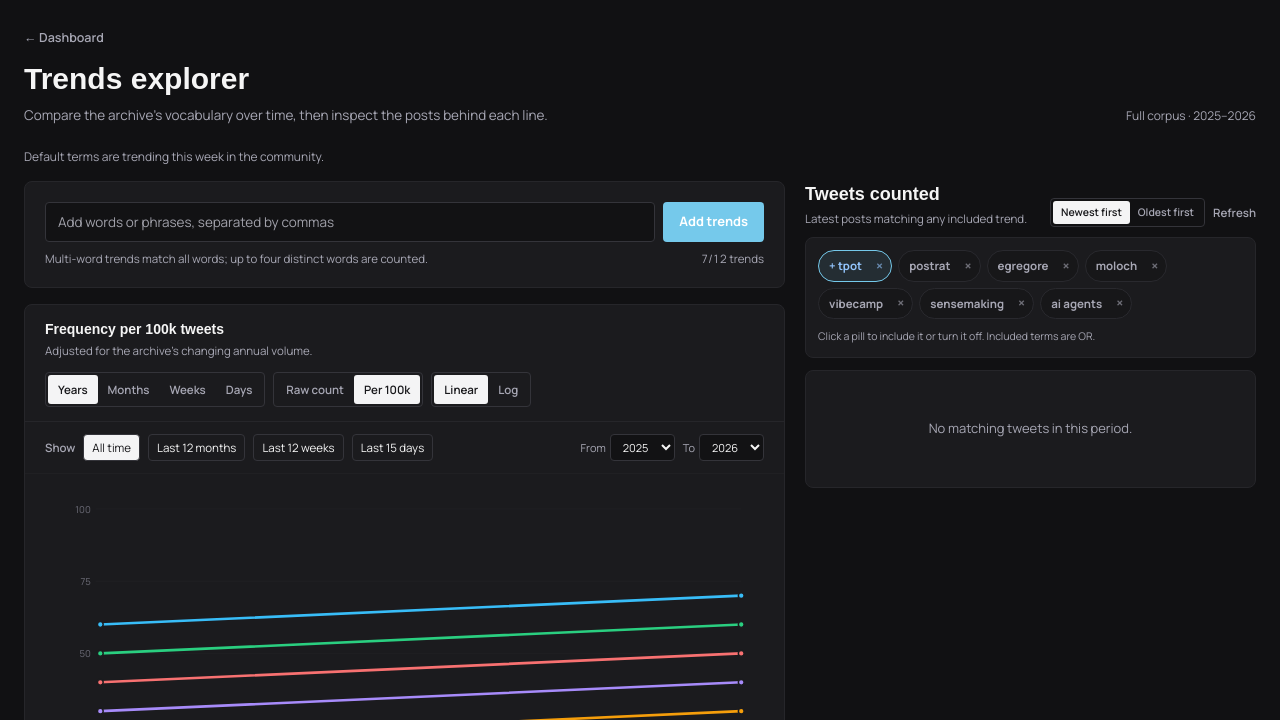
Test: TrendsExplorer request isolation › replaces defaults with the first custom trend, then preserves later additions
In the field named "Words or phrases to chart": x=350, y=222 [45,202,655,242], type "custom idea"
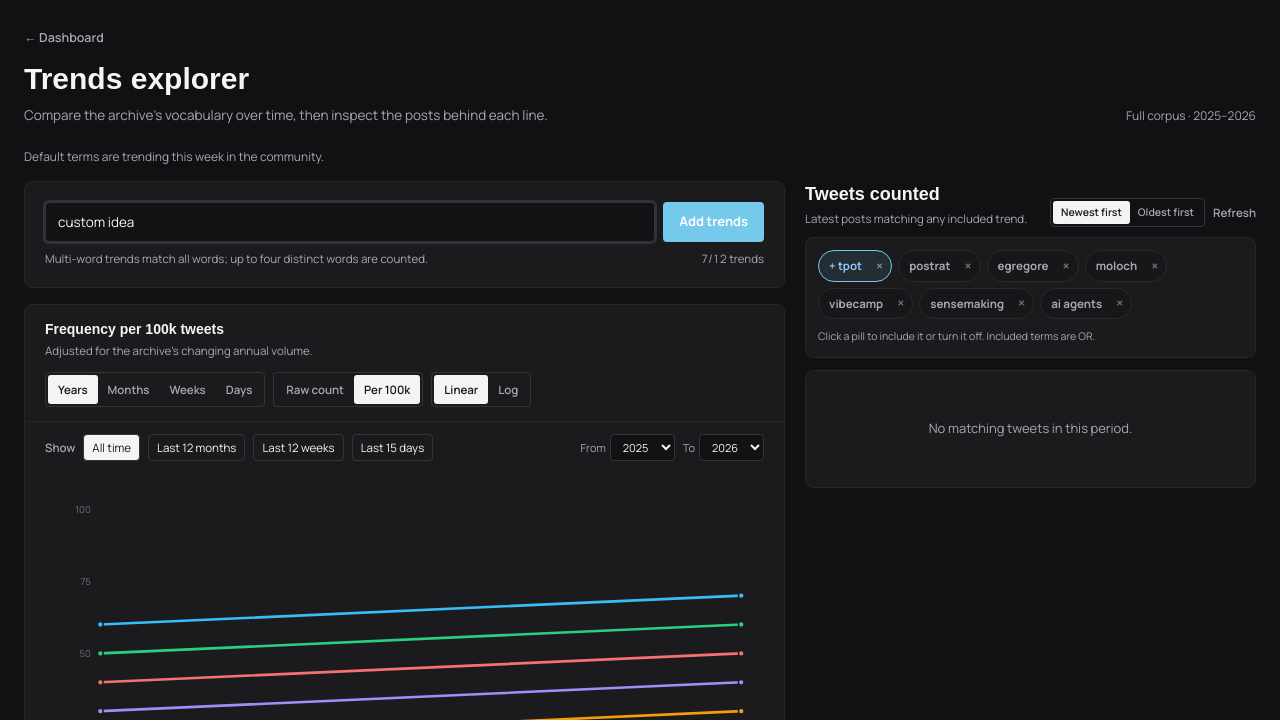
Click the button "Add trends": x=714, y=222 [663,202,764,242]
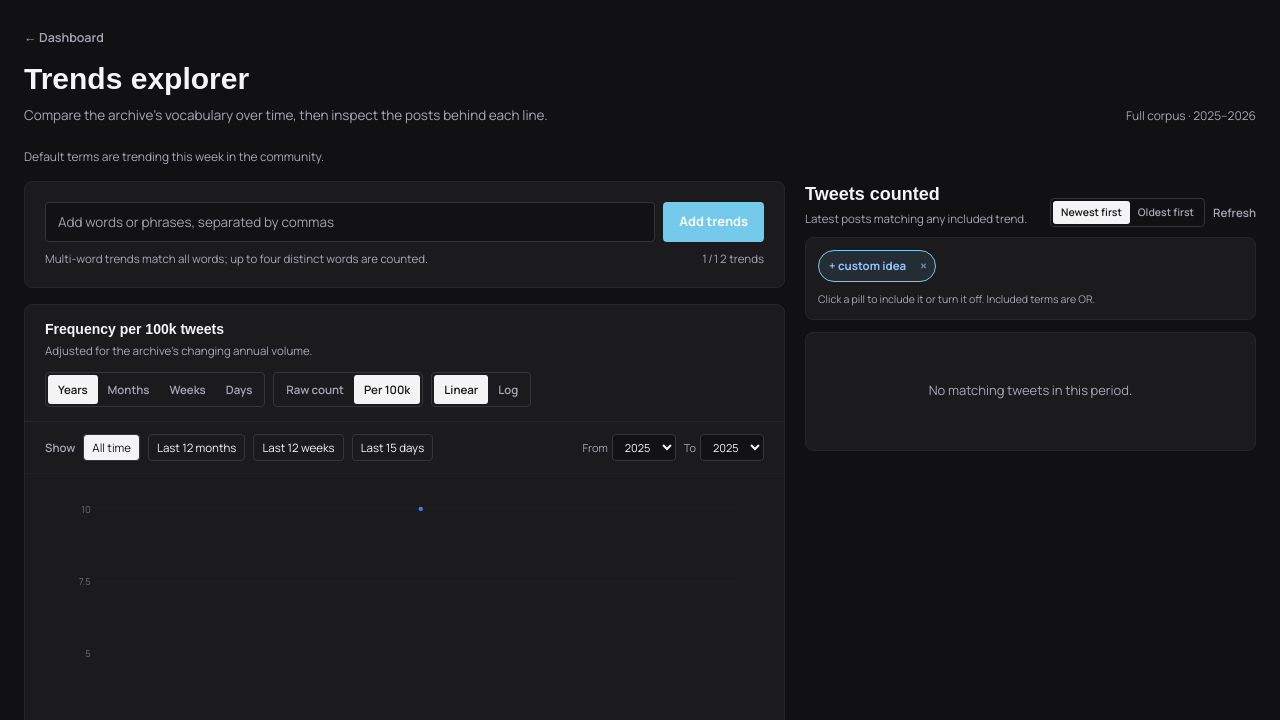
Expected: the text "1/12 trends" is shown, [701,250,764,267]
In the field named "Words or phrases to chart": x=350, y=222 [45,202,655,242], type "second idea"
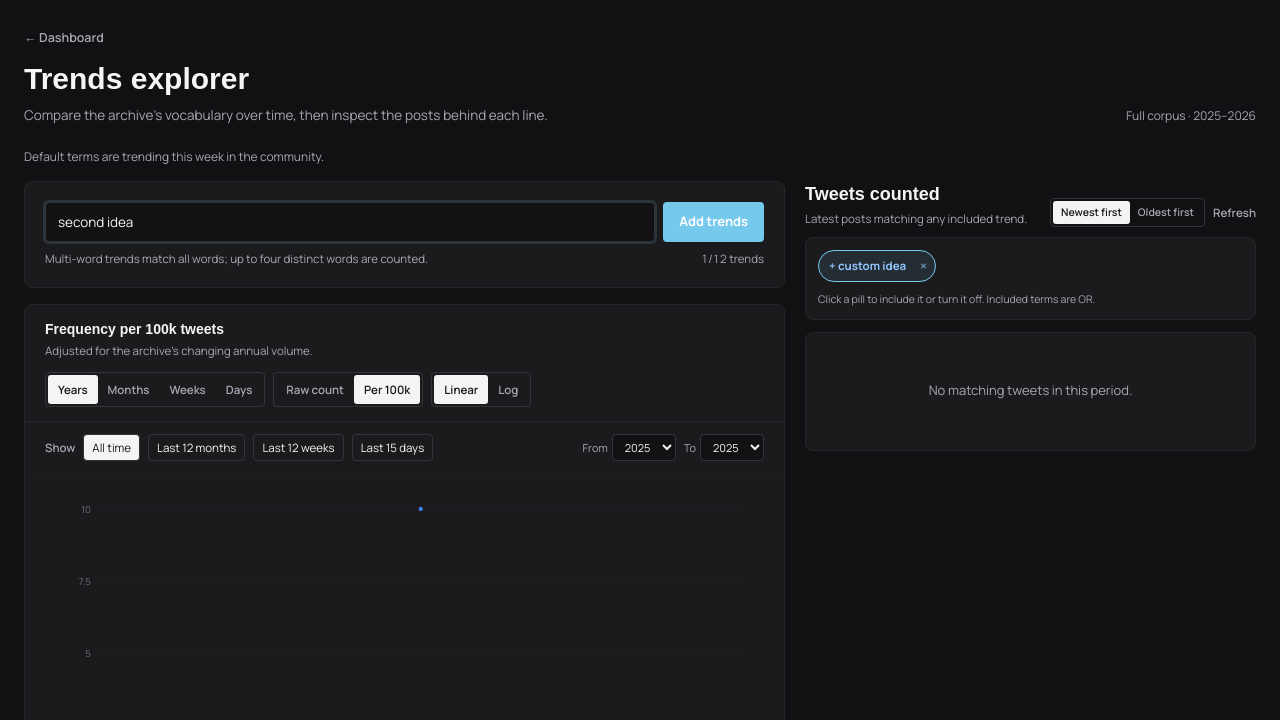
Click the button "Add trends": x=714, y=222 [663,202,764,242]
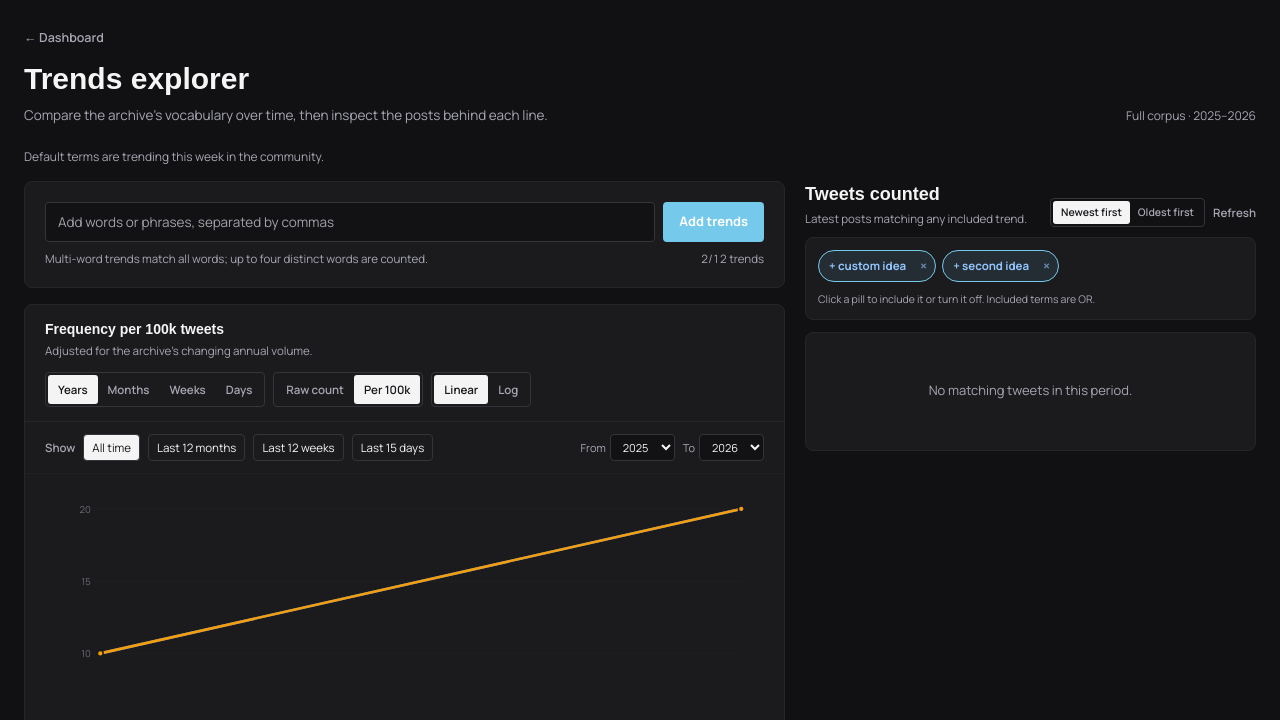
Expected: the field labelled "second idea · 2026 · 20 per 100k" is shown, [738,506,744,512]
Expected: the text "2/12 trends" is shown, [701,250,764,267]
